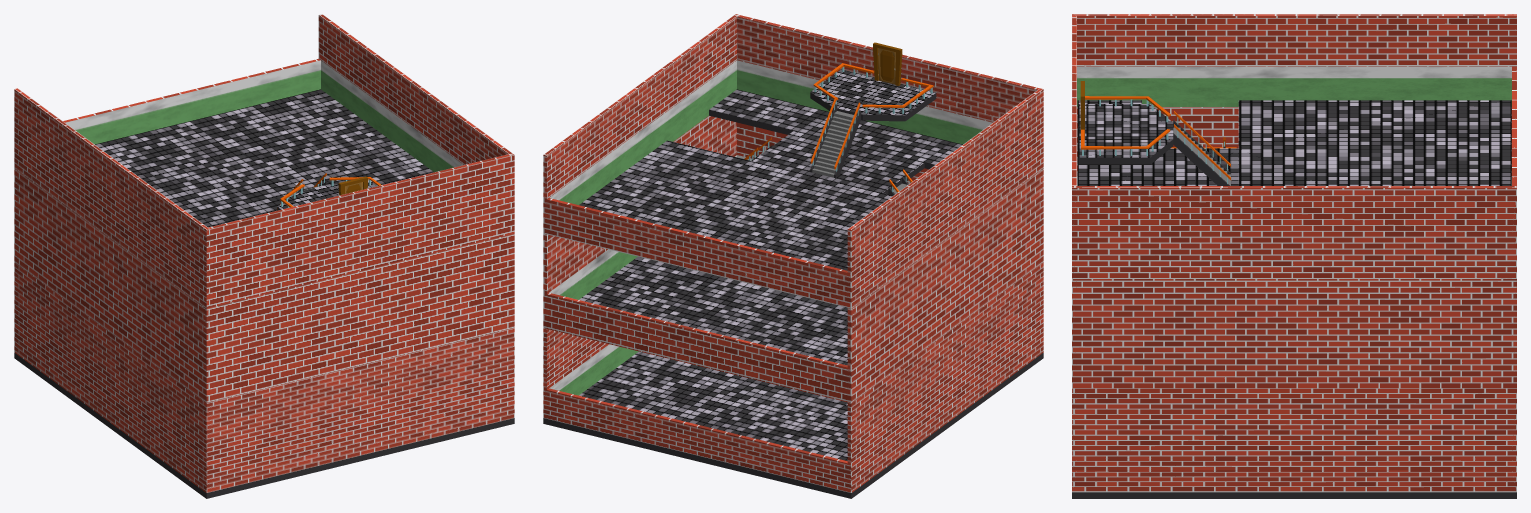
Rendered from Loc 1.fbx.
The picture shows the model from 3 angles, left to right: view 1: azimuth 30°, elevation 25°; view 2: azimuth 150°, elevation 25°; view 3: azimuth 270°, elevation 25°; orthographic projection. The views are drawn at different scales.
Visible parts, largest first — view 1: 3rd wall, 2nd wall, 1st wall, 3rd floor, 1st floor, Final; view 2: 3rd wall, 2nd wall, 1st wall, 3rd floor, 1st floor, 2nd floor, Final, Steps 2.008, Railings.007, Winner's Door, Plane.001, Doorway; view 3: 3rd wall, 2nd wall, 1st wall, 3rd floor, Final, 1st floor, Railings.007, Plane.001, Railings, Steps 2.008.
Part boxes in pixels (x1,y1,x2,y2): 3rd wall: (14,14,514,308); 2nd wall: (14,168,514,403); 1st wall: (14,263,514,492); 3rd floor: (95,89,433,227); 1st floor: (14,353,514,498); Final: (277,183,375,210); 3rd wall: (543,14,1043,308); 2nd wall: (543,115,1043,403); 1st wall: (543,263,1043,492); 3rd floor: (579,89,962,270); 1st floor: (543,351,1043,498); 2nd floor: (579,256,847,365); Final: (810,69,936,121); Steps 2.008: (812,111,856,177); Railings.007: (813,63,933,113); Winner's Door: (878,48,895,84); Plane.001: (810,104,860,178); Doorway: (873,42,902,85); 3rd wall: (1072,14,1516,278); 2nd wall: (1072,107,1516,388); 1st wall: (1072,388,1516,492); 3rd floor: (1077,100,1511,185); Final: (1078,104,1173,164); 1st floor: (1072,492,1516,498); Railings.007: (1081,96,1170,155); Plane.001: (1173,120,1230,185); Railings: (1174,111,1231,183); Steps 2.008: (1173,127,1230,185).
Bounding box in the file's own units: 3407 × 2939 × 3683.
